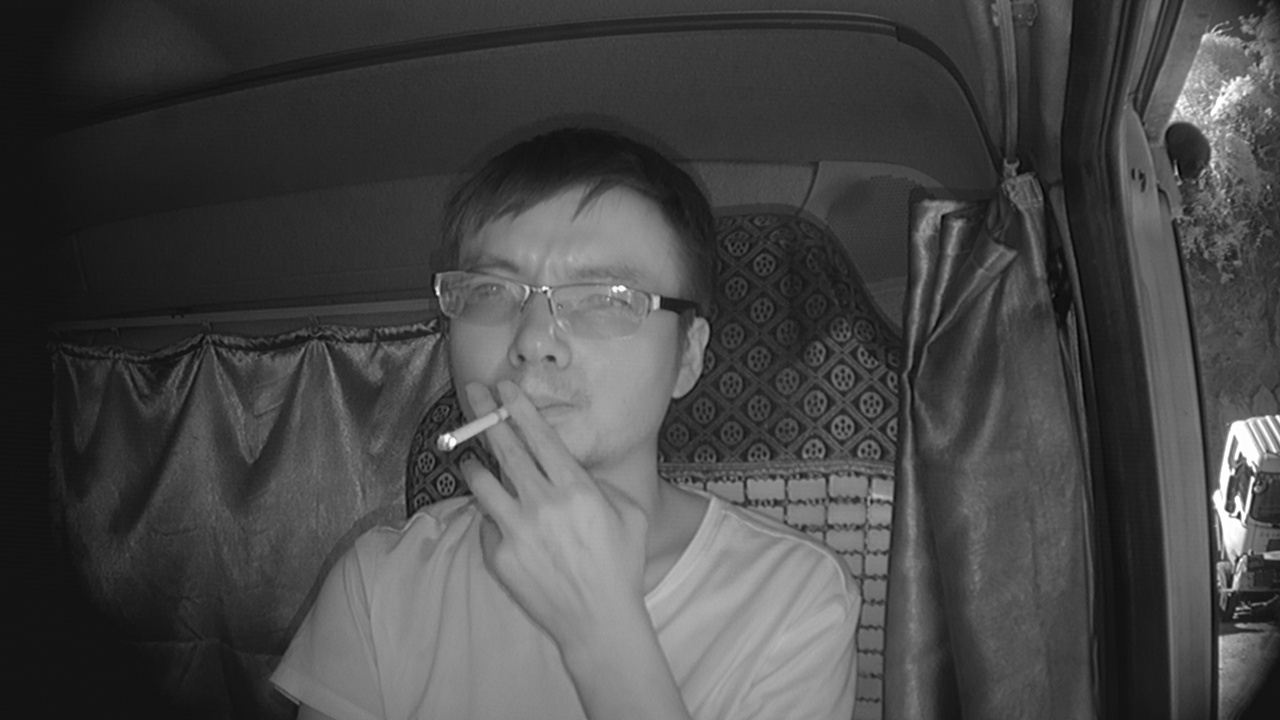hand: (448, 378, 611, 595)
